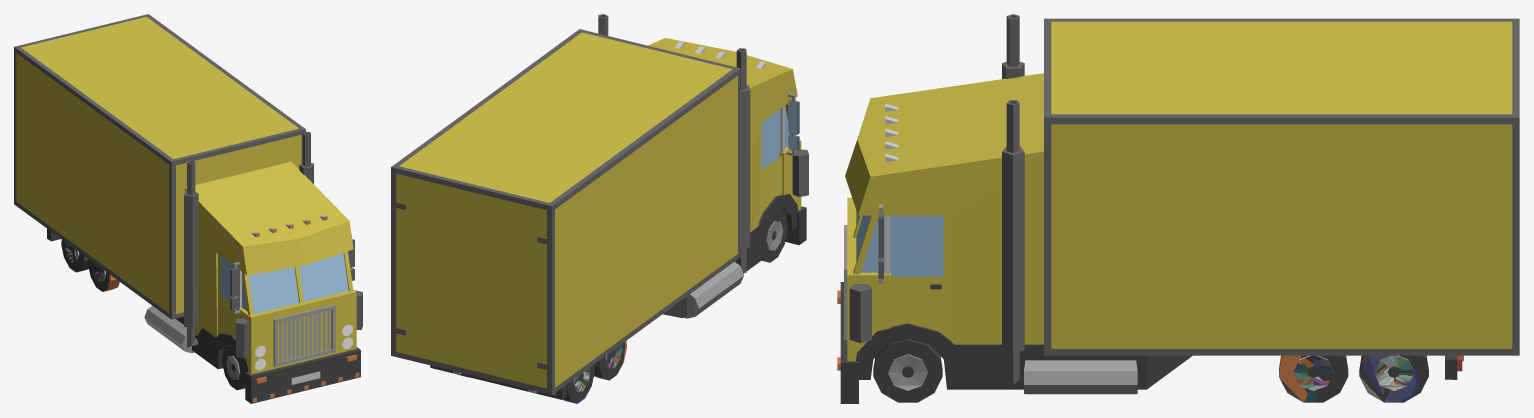
The model's file is transport_truck_007.fbx.
3 views of the same model, side by side, from view 1: azimuth 30°, elevation 25°; view 2: azimuth 150°, elevation 25°; view 3: azimuth 270°, elevation 25° (orthographic). The views are drawn at different scales.
Parts seen in each view (by area): view 1: transport_truck_007; view 2: transport_truck_007; view 3: transport_truck_007.
Part boxes in pixels (x1,y1,x2,y2): transport_truck_007: [14, 14, 362, 403]; transport_truck_007: [391, 14, 808, 403]; transport_truck_007: [837, 14, 1519, 403].
Bounding box in the file's own units: 221 × 318 × 642.
